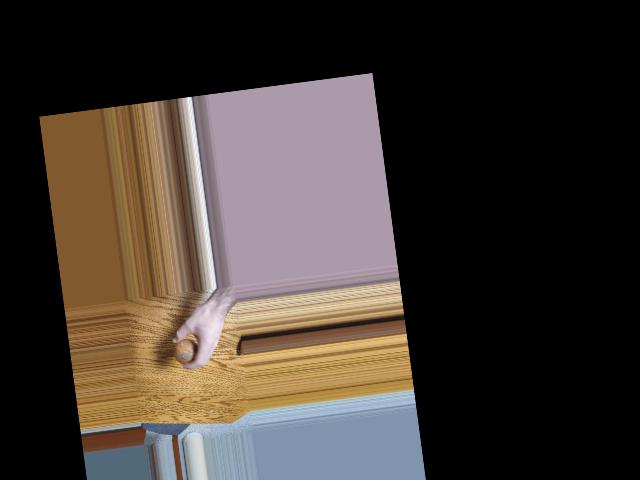onion: (171, 337, 198, 366)
